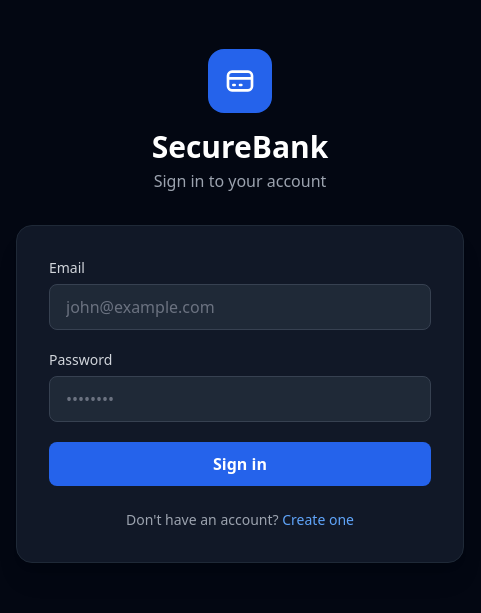
Scenario: Authentication › Login page › shows an error message on invalid credentials
The width and height of the screenshot is (481, 613).
Type "wrong@test.com" into the field with test id "email-input" at (240, 307), box [49,284,431,330]
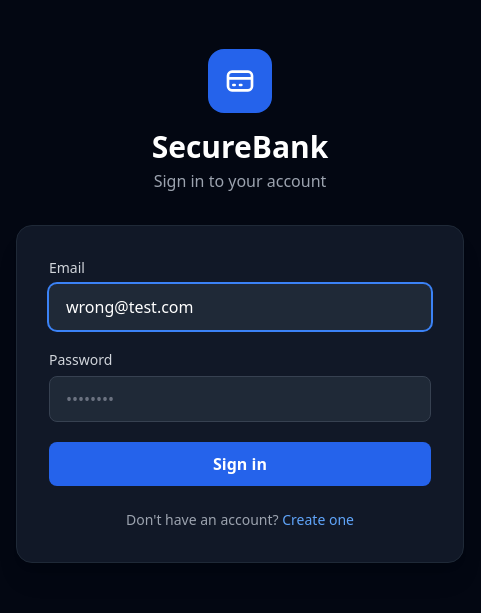
Type "WrongPass1!" into the password field with test id "password-input" at (240, 399), box [49,376,431,422]
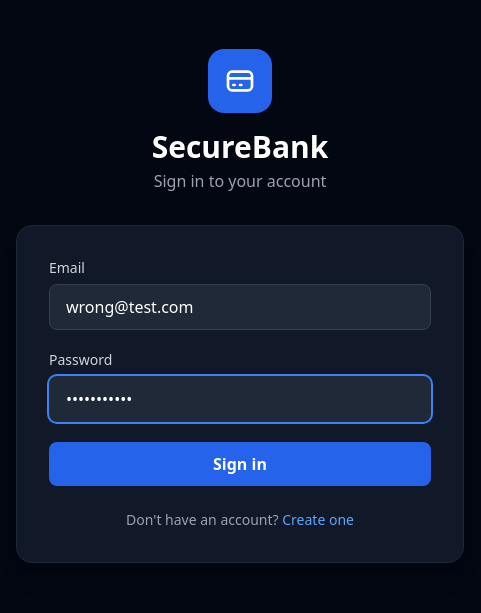
Click the button with test id "submit-btn" at (240, 464), box [49,442,431,486]
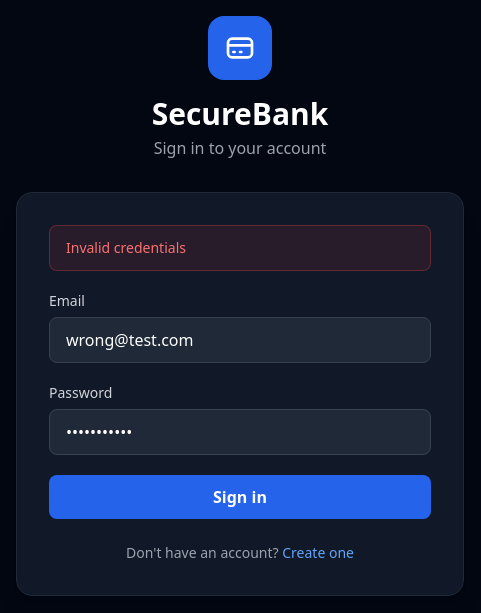
Expected: the text "Invalid credentials" is shown, [49,225,431,271]
